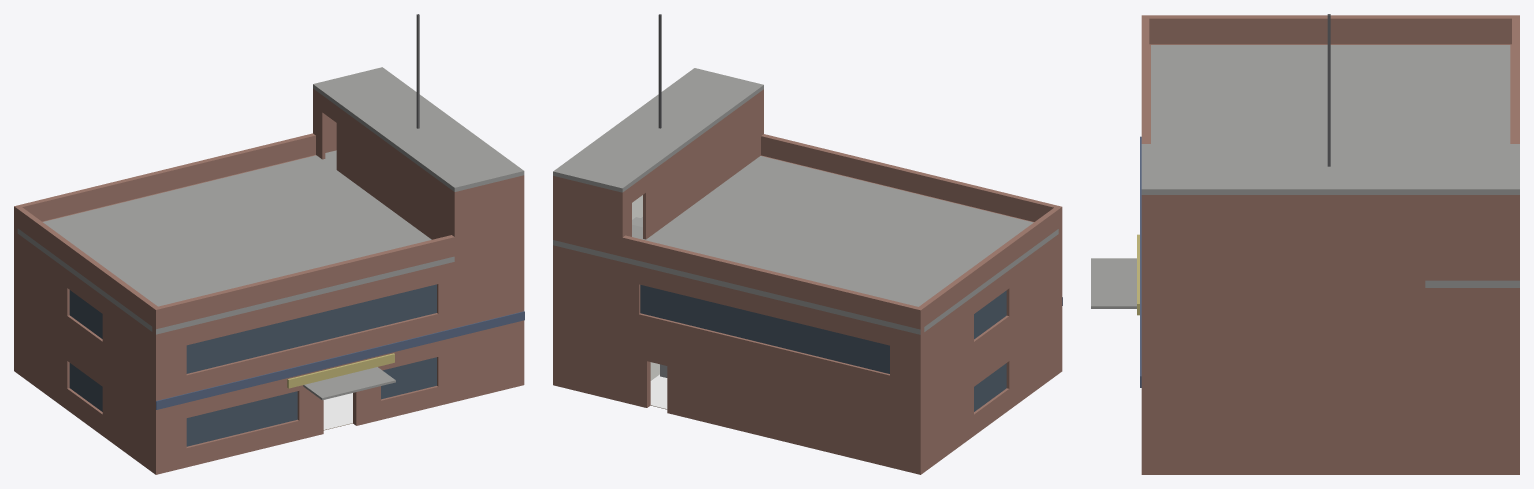
The model's file is police-station.int-v1.lod0.glb.
3 views of the same model, side by side, from view 1: azimuth 30°, elevation 25°; view 2: azimuth 150°, elevation 25°; view 3: azimuth 270°, elevation 25° (orthographic). The views are drawn at different scales.
Parts seen in each view (by area): view 1: police-station; view 2: police-station; view 3: police-station.
Boxes of the visible parts, x1,y1,x2,y2 form: police-station: (14, 14, 524, 474); police-station: (553, 14, 1062, 474); police-station: (1091, 14, 1519, 474).
Size of the model in its own units: 18 by 15.3 by 13.6.
